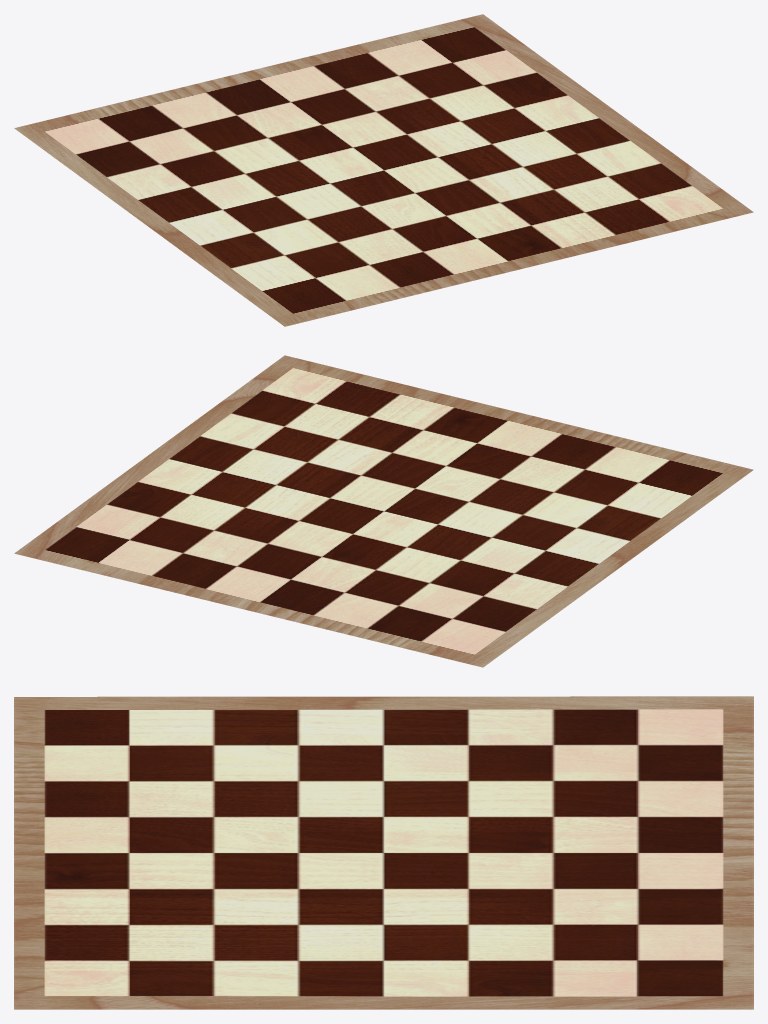
File: _Chess.obj
3 renders of one model, top to bottom at view 1: azimuth 30°, elevation 25°; view 2: azimuth 150°, elevation 25°; view 3: azimuth 270°, elevation 25°, orthographic. The views are drawn at different scales.
Parts seen in each view (by area): view 1: obj_17; view 2: obj_17; view 3: obj_17.
Part boxes in pixels (left/top/right/bottom): obj_17: left=14, top=14, right=753, bottom=326; obj_17: left=14, top=355, right=753, bottom=667; obj_17: left=14, top=696, right=753, bottom=1009.
Size of the model in its own units: 7.59 by 0.0059 by 7.59.
1 material, 1 textured.
